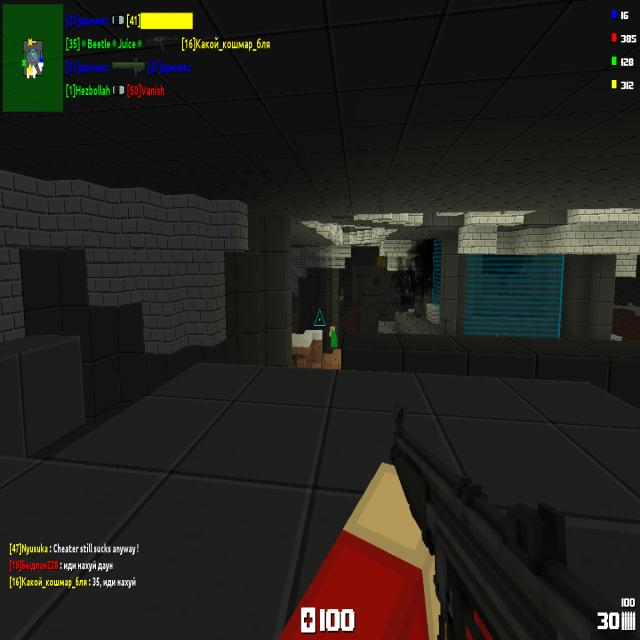enemy: (330, 324, 338, 350)
